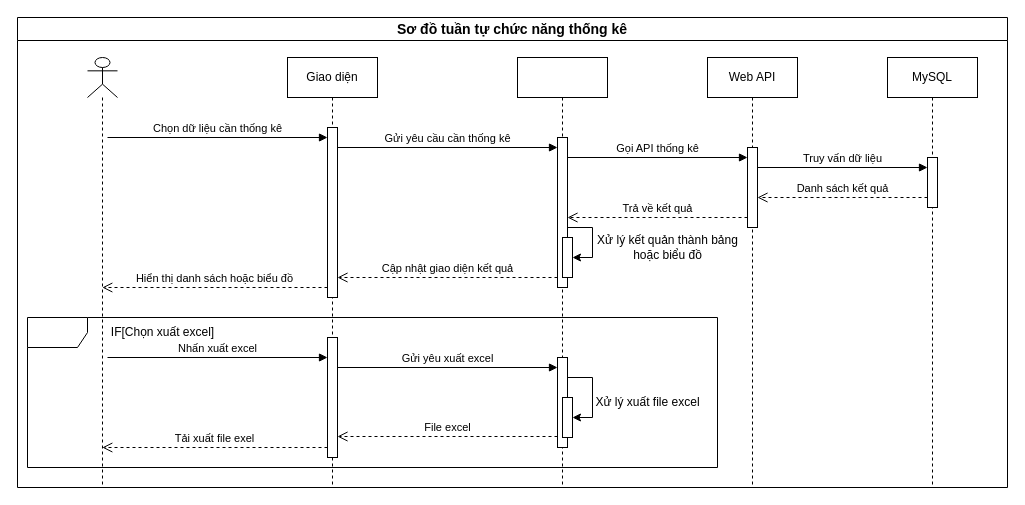
This 1025x505 diagram has some shape labels left out. Here are the shapes that lost their labels. From the top down, the box of each, then its label:
(516, 56, 608, 488): Web Client
(26, 316, 718, 468): alt
